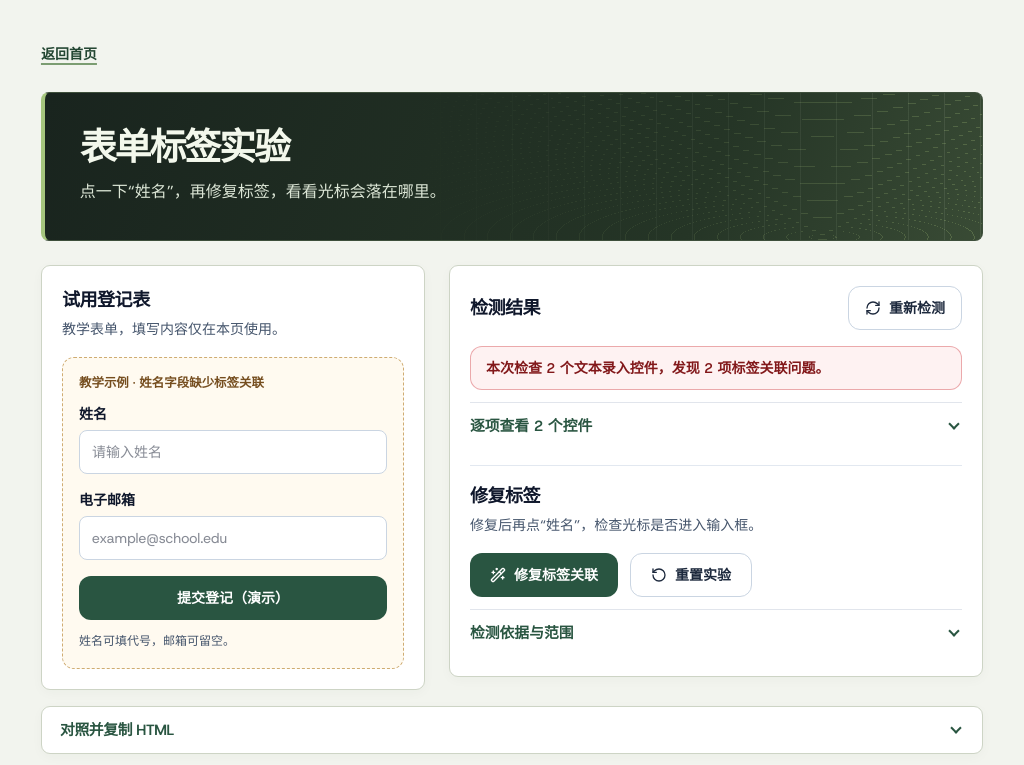
Test: FormLabelLabPage · 重置与重新检测（要求 #7） › 演示按钮只拦提交，不发请求也不写数据
What coordinates should you click on to do the following:
click the button "提交登记（演示）"
I would click on:
 (233, 598)
Its box is x1=79 y1=576 x2=387 y2=620.
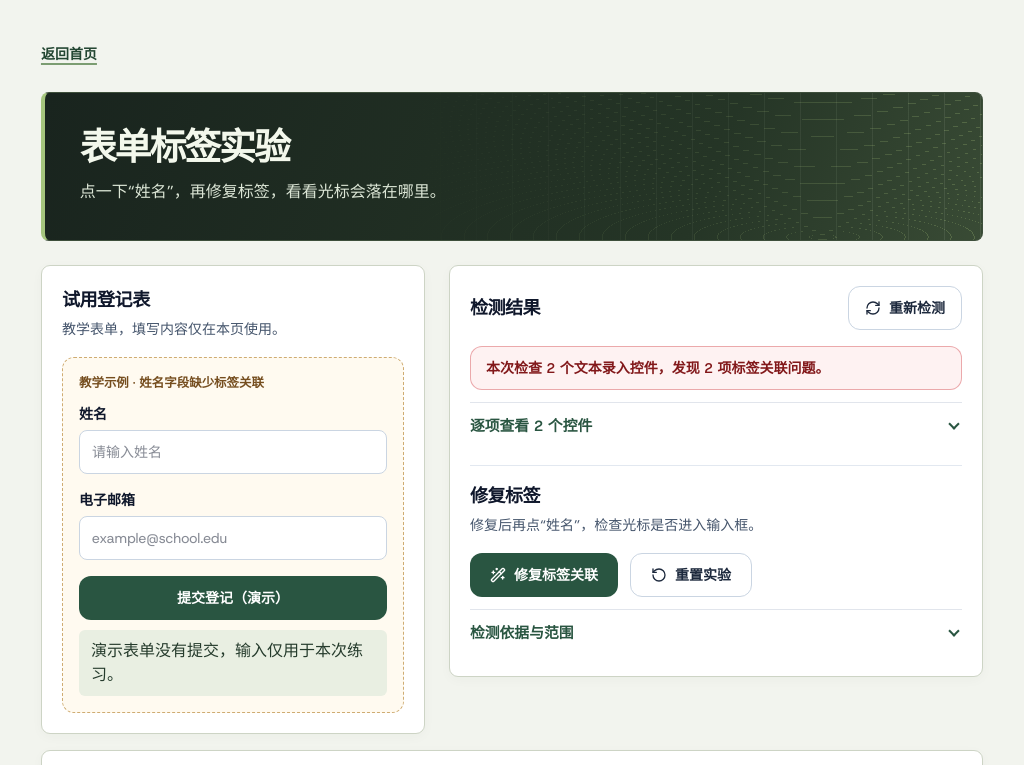
Expected: the message "演示表单没有提交，输入仅用于本次练习。" is shown, x1=79 y1=630 x2=387 y2=696
